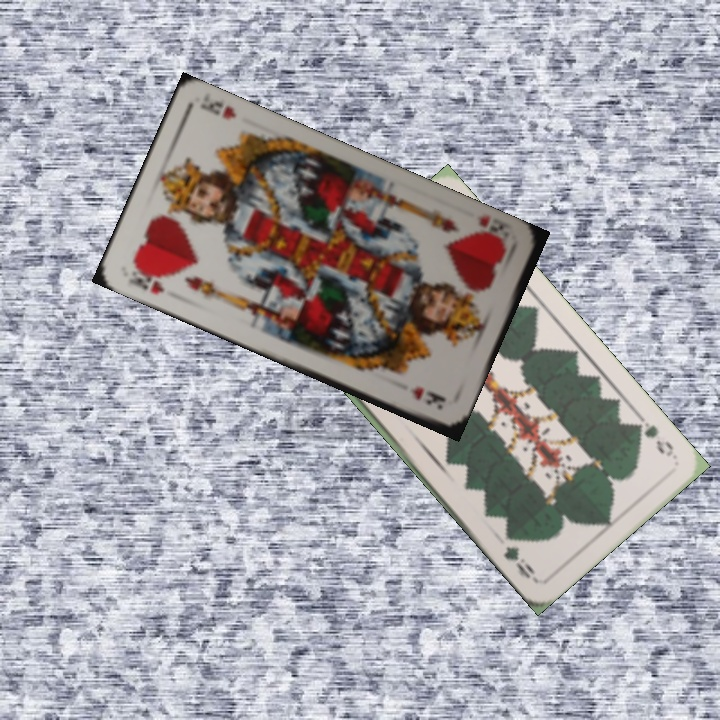G9: (629, 413, 677, 460)
HK: (470, 211, 510, 250), (124, 262, 167, 297)
